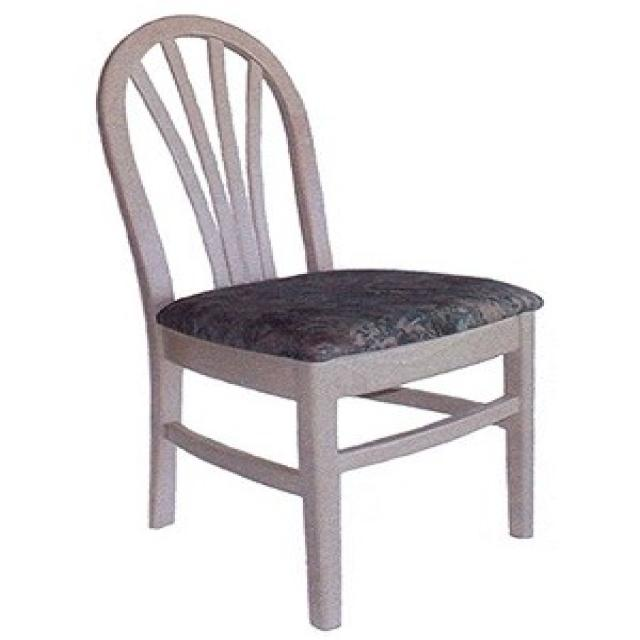chair: (94, 13, 546, 631)
